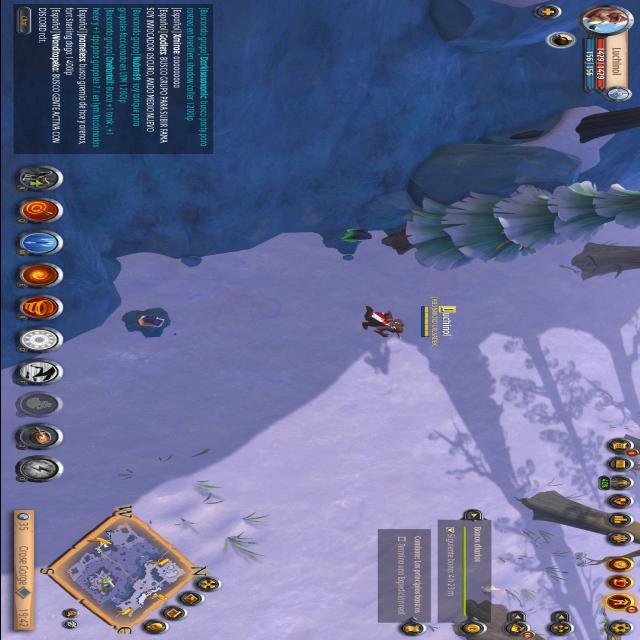piedra_cobre: (122, 308, 170, 338)
